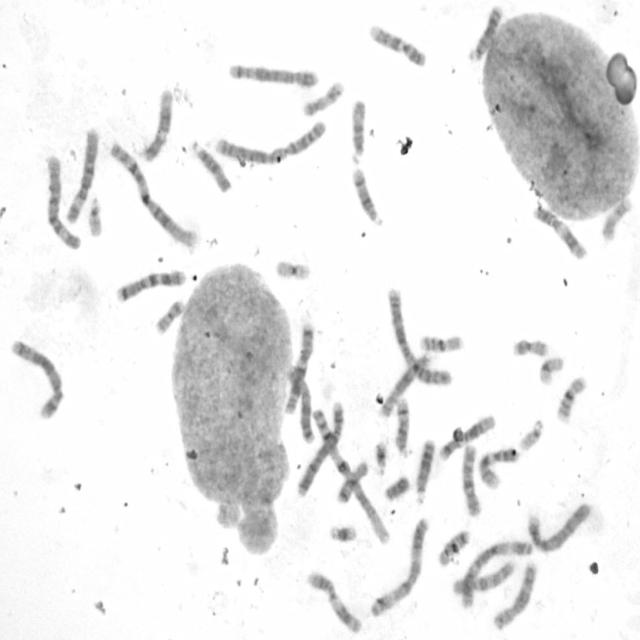A1: (310, 404, 392, 546), (108, 140, 200, 248)
A2: (384, 284, 460, 392), (213, 121, 331, 168)
A3: (369, 513, 432, 615), (459, 538, 536, 610)
B4: (294, 399, 346, 500), (522, 502, 595, 554)
B5: (8, 338, 62, 418), (222, 62, 320, 87)
C10: (450, 553, 518, 602), (456, 444, 483, 516)
C11: (302, 568, 364, 630), (529, 205, 589, 259)
C12: (437, 408, 499, 462), (136, 86, 176, 164)
C6: (42, 154, 82, 254), (63, 130, 99, 227)
C7: (284, 317, 314, 414), (113, 266, 188, 304)
C8: (378, 354, 432, 420), (490, 558, 537, 632)
C9: (366, 24, 428, 67), (477, 446, 519, 492)
D13: (467, 4, 504, 63), (412, 435, 438, 506)
D14: (350, 166, 380, 222), (393, 396, 414, 459)
D15: (191, 137, 232, 195), (349, 98, 369, 161)
E16: (554, 375, 588, 422), (416, 331, 466, 356)
E17: (297, 78, 348, 120), (599, 194, 633, 243)
E18: (335, 458, 368, 504), (436, 527, 471, 568)
F19: (273, 256, 312, 282), (536, 353, 564, 386)
F20: (152, 296, 186, 334), (511, 334, 550, 358)
G21: (328, 521, 358, 544), (372, 438, 389, 476)
G22: (517, 415, 546, 453), (86, 194, 104, 238)
X: (285, 366, 316, 443)
Y: (381, 473, 412, 502)
